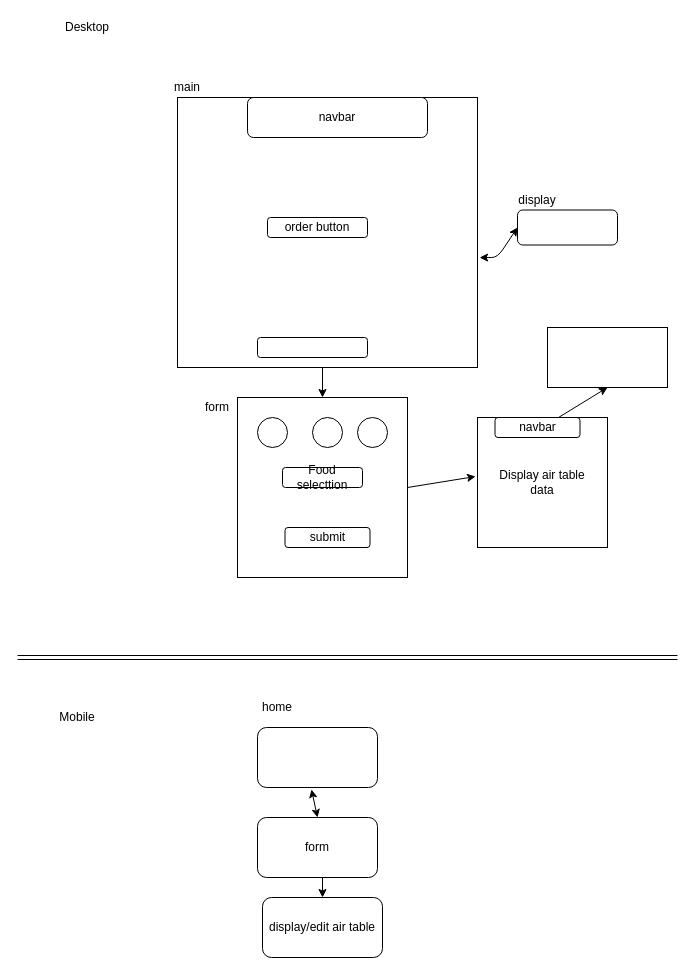
This 695x975 diagram has some shape labels left out. The shapes that lost their labels are listed below. From the top down, each one's centre as x and y in pixels, then its label:
At (567,227): "people favorite dish".
At (312,347): "footer".
At (607,357): "edit/delete".
At (317,757): "order".
